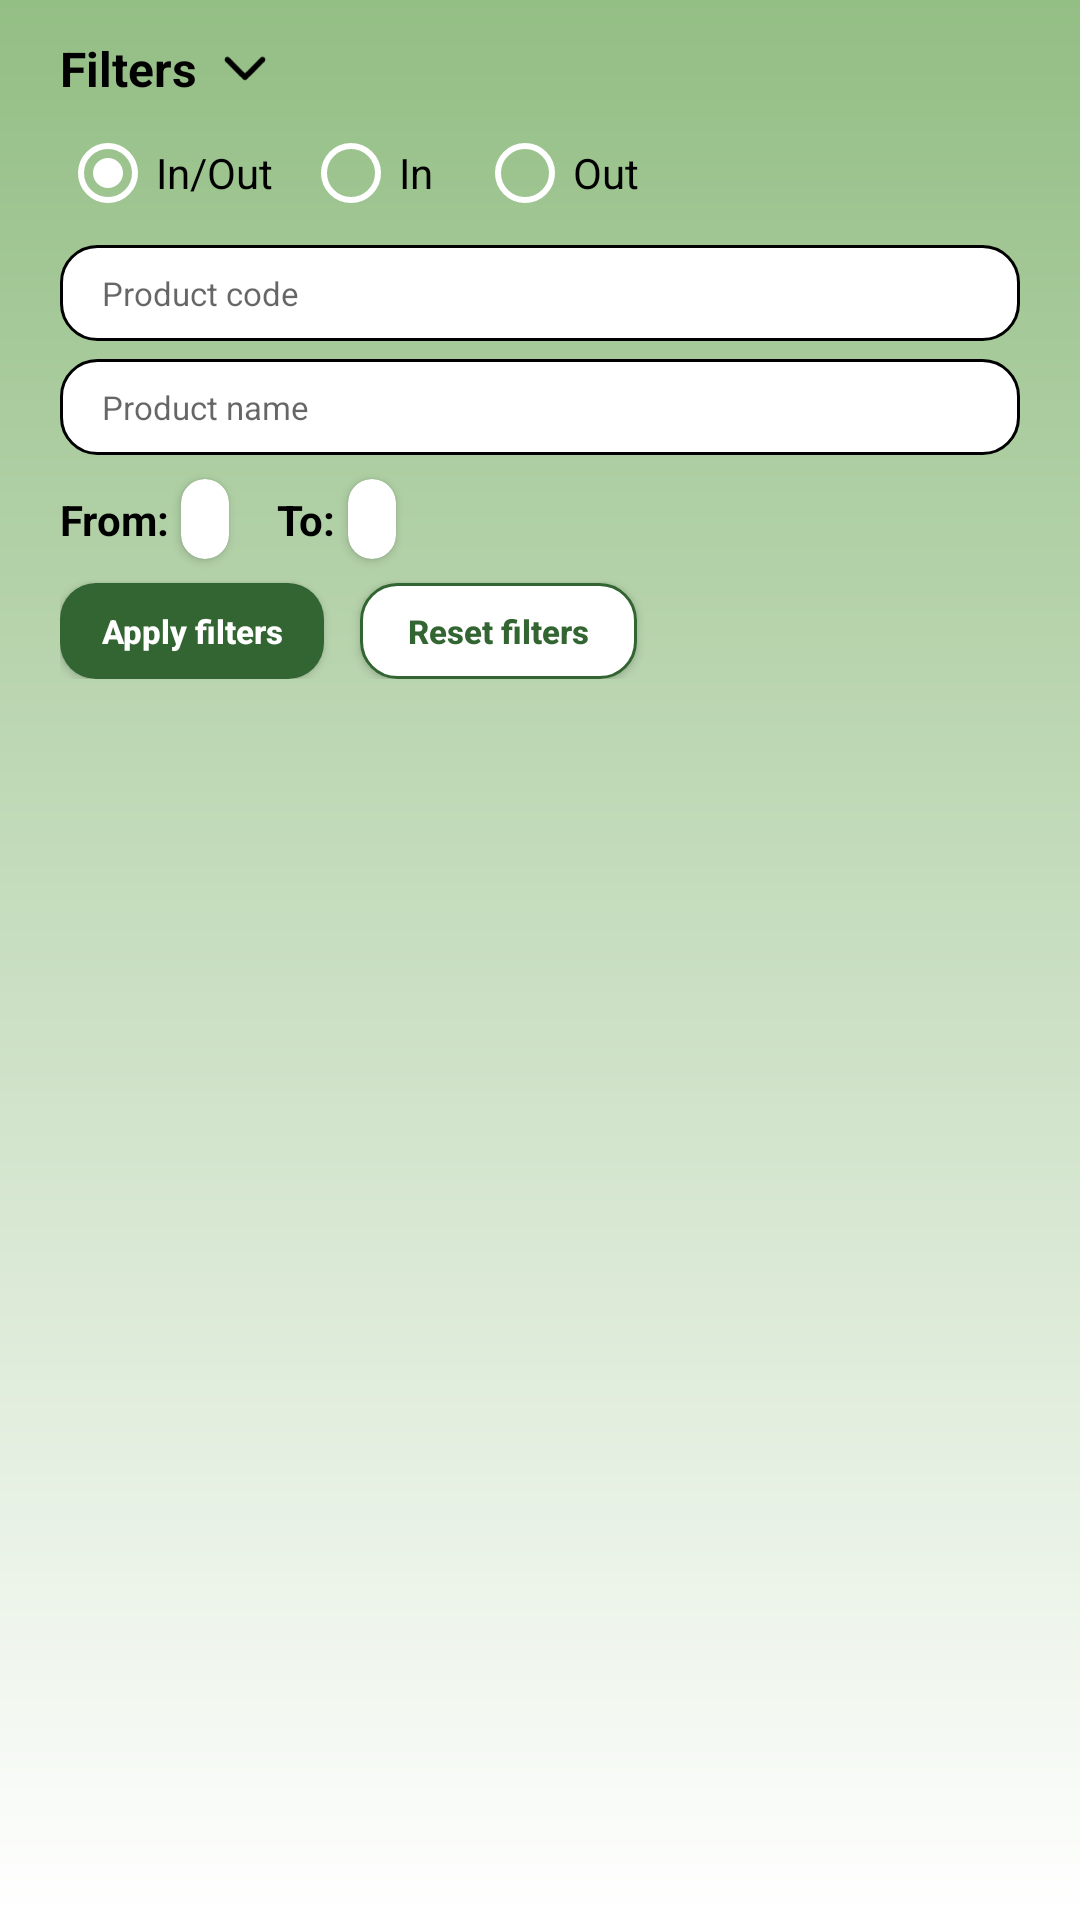

Where to tap for icons on this 1080×1920 app screen, as [x,y]:
arrow down: [245,68]
